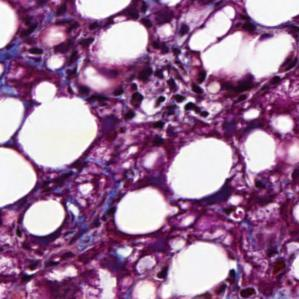inflammation: (121, 67, 211, 124)
